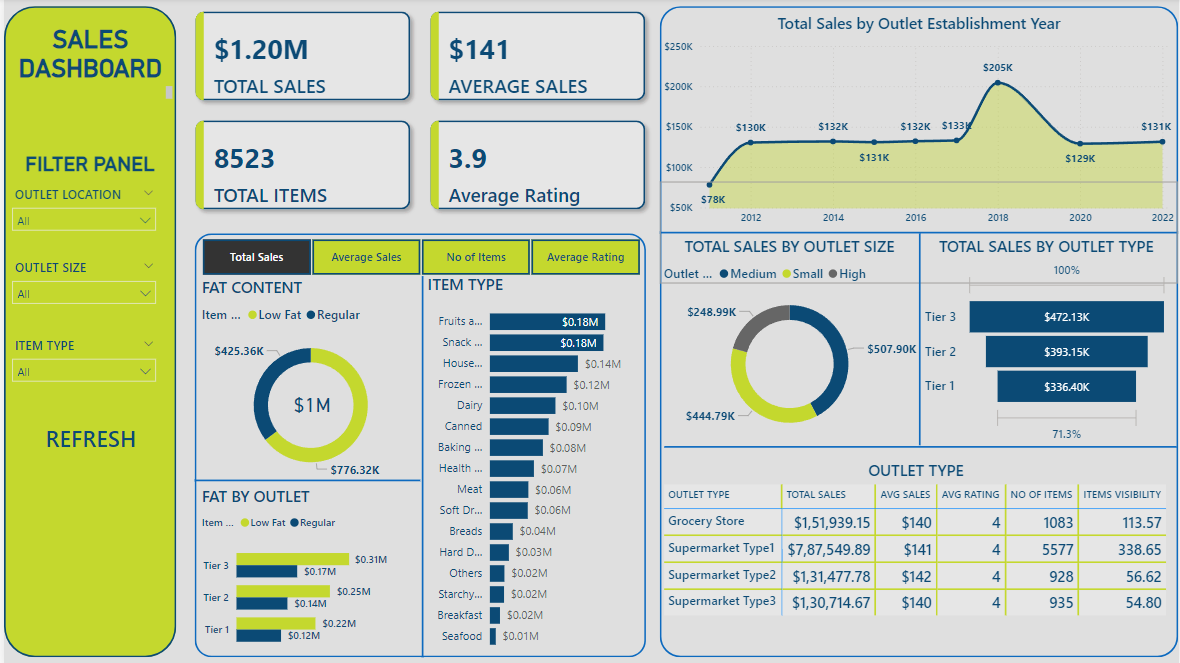

Layout of this report page (visuals, bound fields, positions):
{"tool":"powerbi","page":{"name":"Page 1","canvas":[1400,800],"ordinal":0},"visuals":[{"type":"shape","box":[0,10.9,205.3,775.9],"z":0},{"type":"textbox","title":"SALES DASHBOARD","box":[0,32.7,205.3,94.5],"z":1000},{"type":"cardVisual","fields":{"Data":["Grocery Data.Total Sales","Grocery Data.Average Sales","Grocery Data.No of Items","Grocery Data.Average Rating"]},"box":[210.8,0,570.6,270.8],"z":2000},{"type":"shape","box":[227.1,281.7,537.9,505.2],"z":3000},{"type":"donutChart","title":"FAT CONTENT","fields":{"Y":["Grocery Data.Total Sales"],"Category":["Grocery Data.Item Fat Content"]},"box":[230.8,332.5,268.9,252.6],"z":4000},{"type":"slicer","fields":{"Values":["Metrics.Metrics"]},"box":[210.8,281.7,570.6,56.3],"z":5000},{"type":"card","fields":{"Values":["Grocery Data.Total Sales"]},"box":[332.5,459.7,69.1,50.9],"z":6000},{"type":"clusteredBarChart","title":"FAT BY OUTLET","fields":{"Y":["Grocery Data.Total Sales"],"Category":["Grocery Data.Outlet Location Type"],"Series":["Grocery Data.Item Fat Content"]},"box":[230.8,581.5,230.8,209],"z":7000},{"type":"shape","box":[227.1,527,268.9,98.1],"z":8000},{"type":"shape","box":[448.8,332.5,99.9,454.3],"z":9000},{"type":"barChart","title":"ITEM TYPE","fields":{"Y":["Grocery Data.Total Sales"],"Category":["Grocery Data.Item Type"]},"box":[499.7,328.9,265.3,457.9],"z":10000},{"type":"shape","box":[781.4,10.9,617.8,775.9],"z":11000},{"type":"lineChart","fields":{"Y":["Grocery Data.Total Sales"],"Category":["Grocery Data.Outlet Establishment Year"]},"box":[781.4,18.2,617.8,263.5],"z":12000},{"type":"donutChart","title":"TOTAL SALES BY OUTLET SIZE","fields":{"Y":["Grocery Data.Total Sales"],"Category":["Grocery Data.Outlet Size"]},"box":[781.4,283.5,308.9,252.6],"z":13000},{"type":"shape","box":[781.4,219.9,617.8,121.7],"z":14000},{"type":"shape","box":[963.1,281.7,256.2,252.6],"z":15000},{"type":"funnel","title":"TOTAL SALES BY OUTLET TYPE","fields":{"Y":["Grocery Data.Total Sales"],"Category":["Grocery Data.Outlet Location Type"]},"box":[1092.1,283.5,299.8,252.6],"z":16000},{"type":"shape","box":[786.8,487,610.6,98.1],"z":17000},{"type":"pivotTable","title":"OUTLET TYPE","fields":{"Rows":["Grocery Data.Outlet Type"],"Values":["Grocery Data.Total Sales","Grocery Data.Average Sales","Grocery Data.Average Rating","Grocery Data.No of Items","Sum(Grocery Data.Item Visibility)"]},"box":[781.4,550.6,610.6,227.1],"z":18000},{"type":"slicer","fields":{"Values":["Grocery Data.Outlet Location Type"]},"box":[0,219.9,190.8,70.9],"z":19000},{"type":"slicer","fields":{"Values":["Grocery Data.Outlet Size"]},"box":[0,307.1,190.8,70.9],"z":20000},{"type":"slicer","fields":{"Values":["Grocery Data.Item Type"]},"box":[0,399.8,190.8,70.9],"z":21000},{"type":"textbox","title":"FILTER PANEL","box":[0,185.3,205.3,34.5],"z":22000},{"type":"actionButton","box":[3.6,499.7,199.9,50.9],"z":24000}]}

Visuals, with their boxes in screenshot pixels (x1, y1, x2, y2), scaled from the page's 1400x800 canvas onto the 1180x663 screenshot:
shape: region(0, 9, 173, 652)
"SALES DASHBOARD" textbox: region(0, 27, 173, 105)
cardVisual - Grocery Data.Total Sales x Grocery Data.Average Sales: region(178, 0, 659, 224)
shape: region(191, 233, 645, 652)
"FAT CONTENT" donutChart: region(195, 276, 421, 485)
slicer - Metrics.Metrics: region(178, 233, 659, 280)
card - Grocery Data.Total Sales: region(280, 381, 338, 423)
"FAT BY OUTLET" clusteredBarChart: region(195, 482, 389, 655)
shape: region(191, 437, 418, 518)
shape: region(378, 276, 462, 652)
"ITEM TYPE" barChart: region(421, 273, 645, 652)
shape: region(659, 9, 1179, 652)
lineChart - Grocery Data.Total Sales x Grocery Data.Outlet Establishment Year: region(659, 15, 1179, 233)
"TOTAL SALES BY OUTLET SIZE" donutChart: region(659, 235, 919, 444)
shape: region(659, 182, 1179, 283)
shape: region(812, 233, 1028, 443)
"TOTAL SALES BY OUTLET TYPE" funnel: region(920, 235, 1173, 444)
shape: region(663, 404, 1178, 485)
"OUTLET TYPE" pivotTable: region(659, 456, 1173, 645)
slicer - Grocery Data.Outlet Location Type: region(0, 182, 161, 241)
slicer - Grocery Data.Outlet Size: region(0, 255, 161, 313)
slicer - Grocery Data.Item Type: region(0, 331, 161, 390)
"FILTER PANEL" textbox: region(0, 154, 173, 182)
actionButton: region(3, 414, 172, 456)
